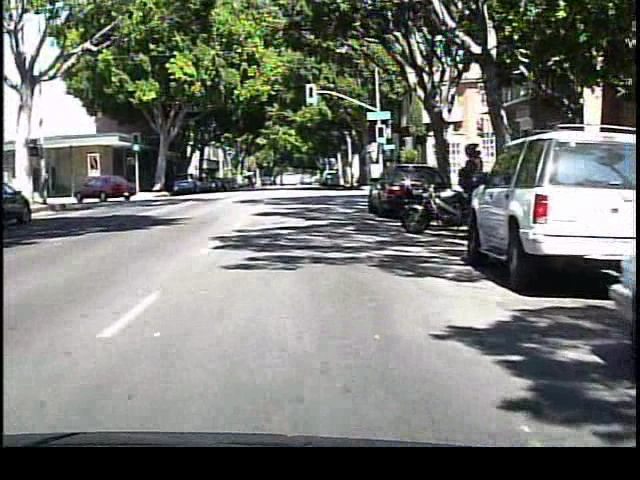person: (450, 136, 489, 246)
